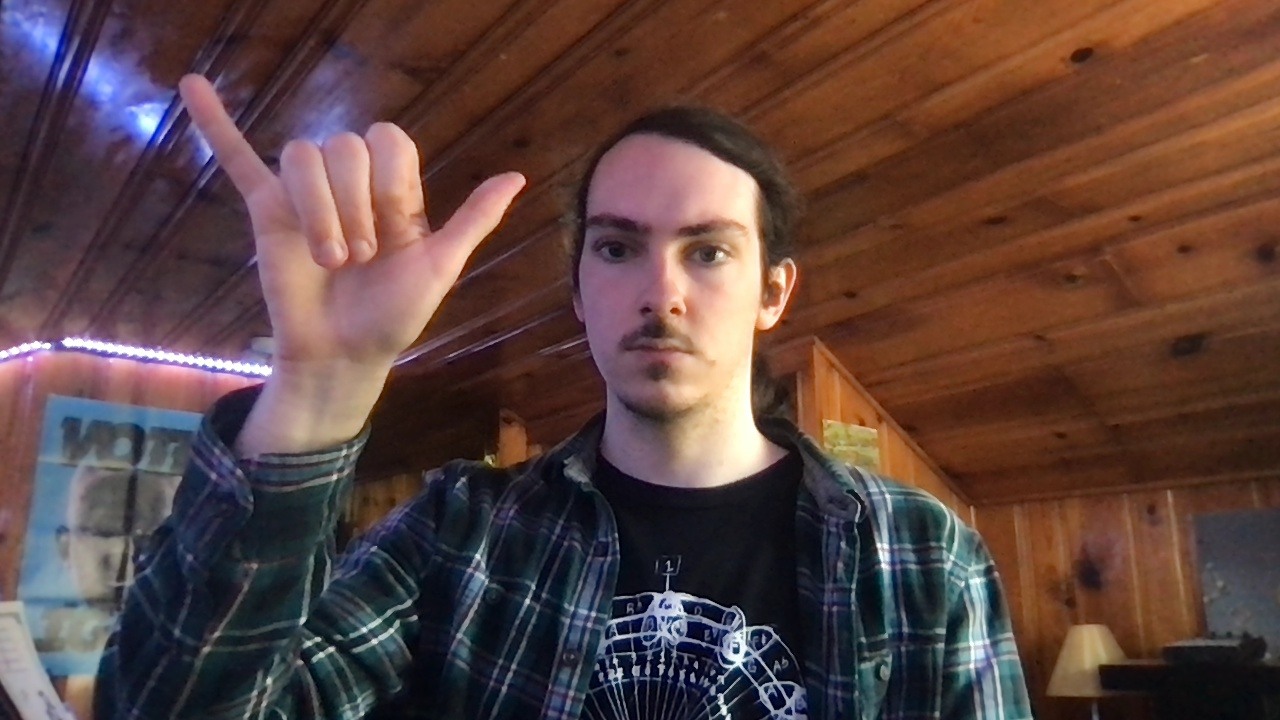y: (172, 69, 527, 354)
